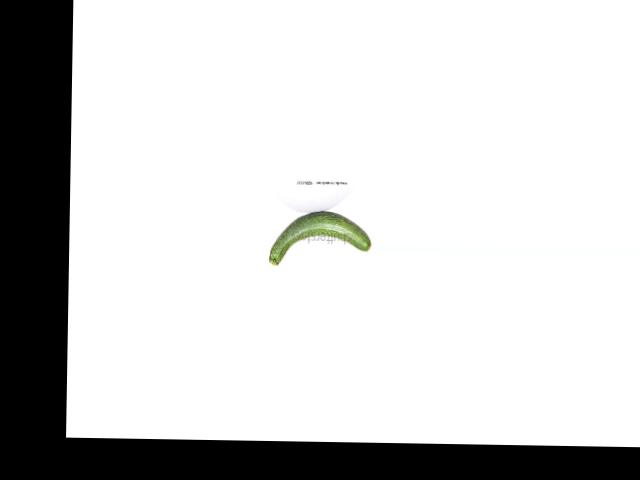cucumber: (268, 210, 371, 267)
